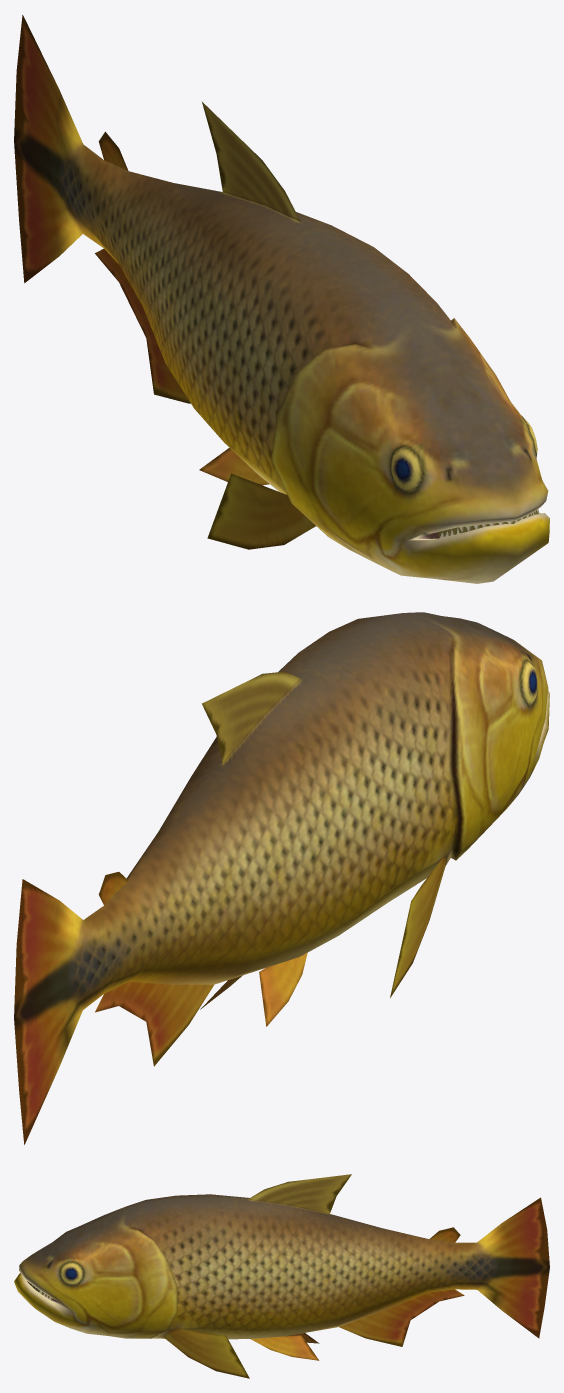
File: FishDolado.glb
3 renders of one model, top to bottom at view 1: azimuth 30°, elevation 25°; view 2: azimuth 150°, elevation 25°; view 3: azimuth 270°, elevation 25°, orthographic. The views are drawn at different scales.
Parts seen in each view (by area): view 1: FishDorado__mDolado; view 2: FishDorado__mDolado; view 3: FishDorado__mDolado.
Boxes of the visible parts, x1,y1,x2,y2 form: FishDorado__mDolado: (14,15,549,583); FishDorado__mDolado: (14,612,549,1144); FishDorado__mDolado: (14,1174,549,1378).
Size of the model in its own units: 3 by 5.12 by 13.72.
1 material, 1 textured.
